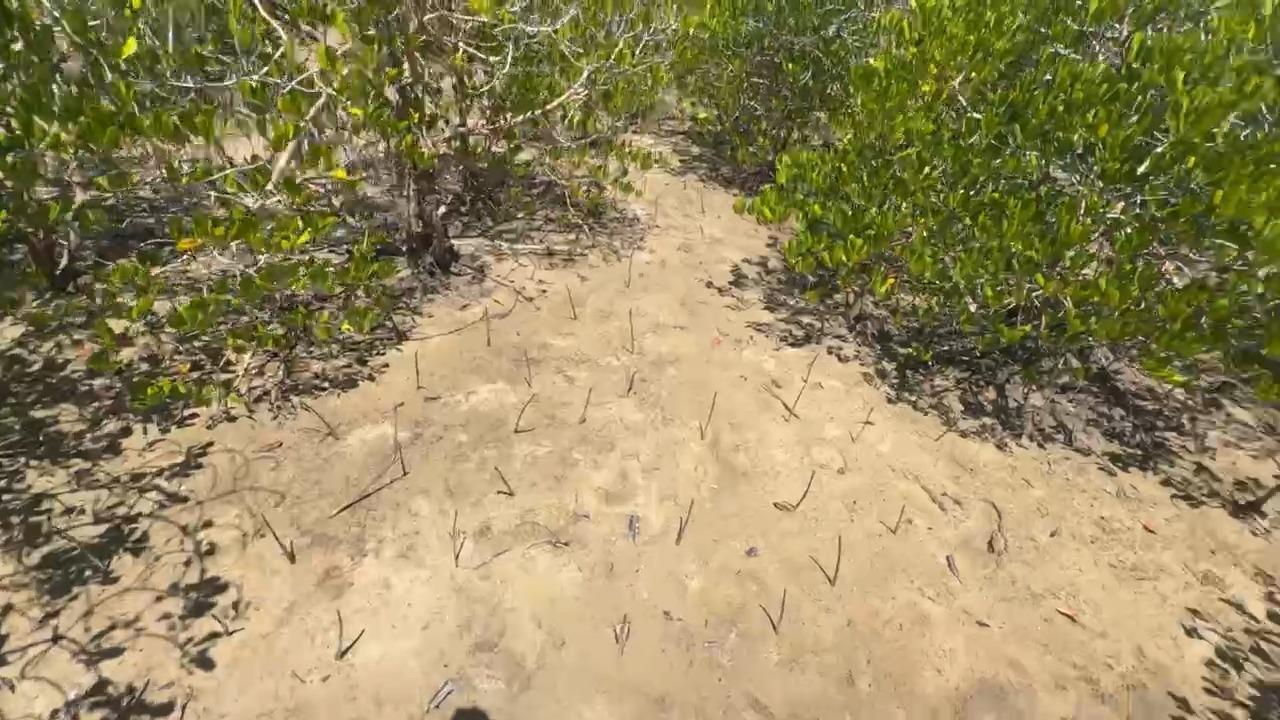Tree: (787, 352, 820, 422), (260, 512, 296, 564), (300, 401, 340, 439), (793, 470, 817, 510), (675, 498, 695, 545), (514, 393, 535, 433), (830, 534, 842, 587), (494, 465, 515, 495), (775, 588, 787, 635), (704, 391, 718, 431), (578, 388, 593, 424), (211, 613, 231, 636), (334, 609, 343, 660), (565, 284, 577, 319), (934, 423, 955, 441), (893, 505, 905, 536), (628, 307, 635, 354), (524, 349, 532, 387), (455, 535, 467, 559), (398, 445, 407, 476), (627, 371, 637, 396), (414, 349, 420, 390), (627, 253, 632, 288), (700, 187, 706, 214), (486, 315, 491, 346), (865, 407, 874, 422), (654, 196, 659, 220), (684, 179, 686, 190)
